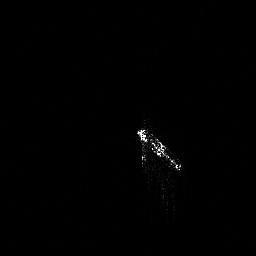ship: (136, 127, 184, 174)
